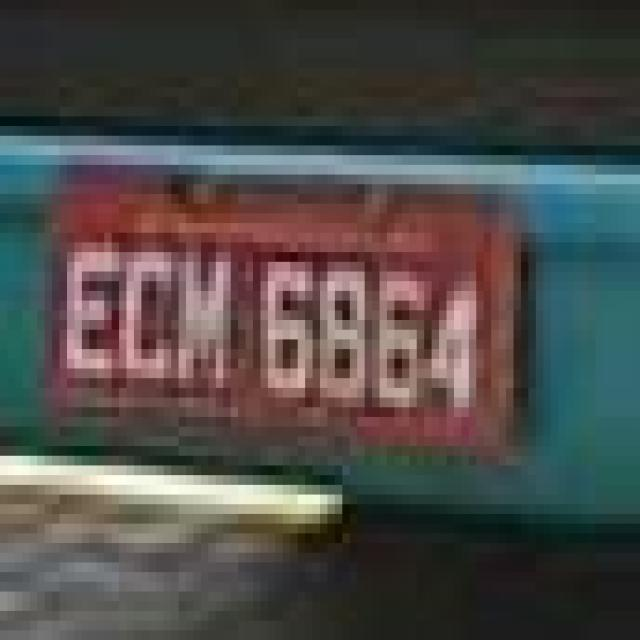4: (430, 272, 483, 420)
6: (259, 253, 318, 409), (371, 260, 428, 421)
8: (315, 259, 371, 415)
C: (120, 240, 182, 388)
E: (60, 238, 122, 391)
M: (178, 240, 235, 400)
